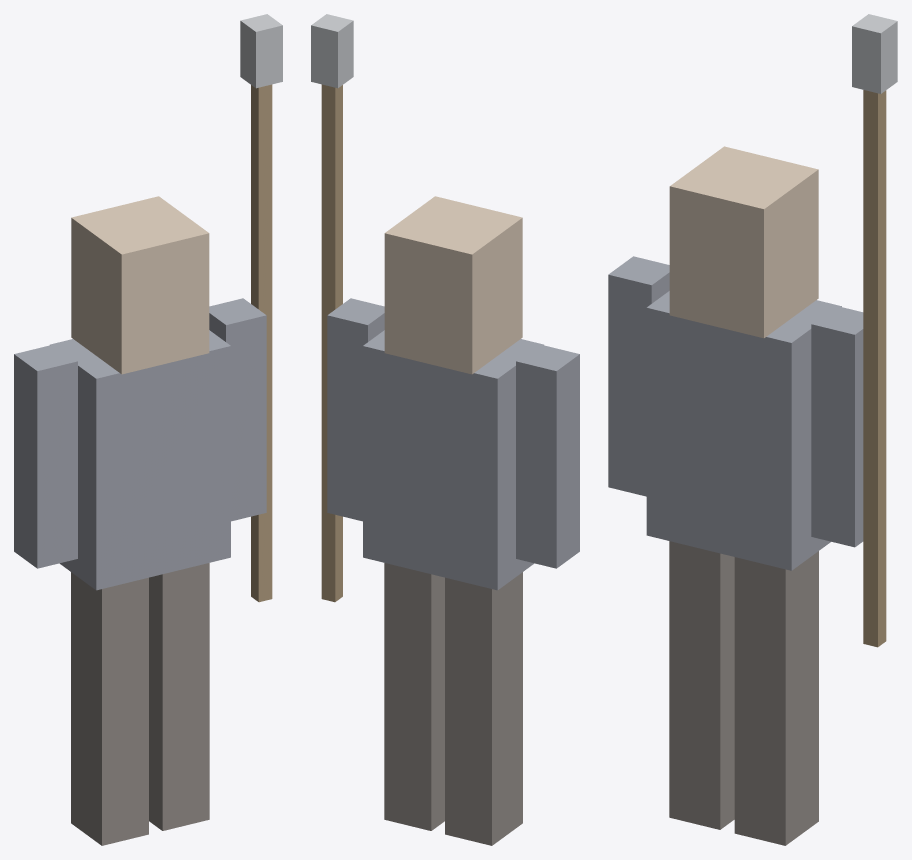
File: guard.glb
3 renders of one model, left to right at view 1: azimuth 30°, elevation 25°; view 2: azimuth 150°, elevation 25°; view 3: azimuth 330°, elevation 25°, orthographic. The views are drawn at different scales.
Visible parts, largest first — view 1: lod0; view 2: lod0; view 3: lod0.
Part boxes in pixels (x1,y1,x2,y2): lod0: (14,14,282,845); lod0: (311,14,579,845); lod0: (608,14,897,845).
Size of what is drawn, in the model's own units: 0.74 by 2.18 by 0.26.
